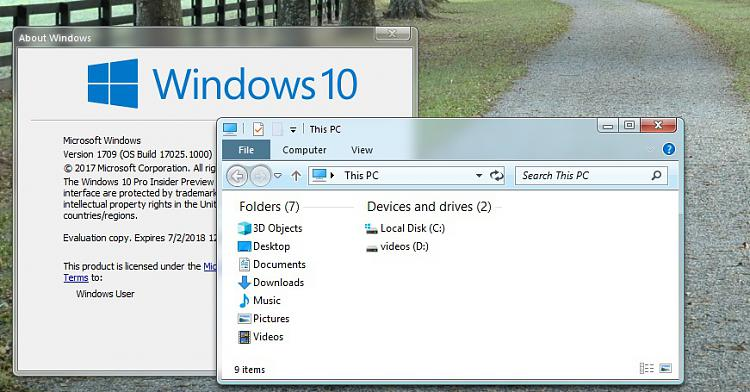close: (640, 115, 678, 134), (373, 25, 412, 40)
